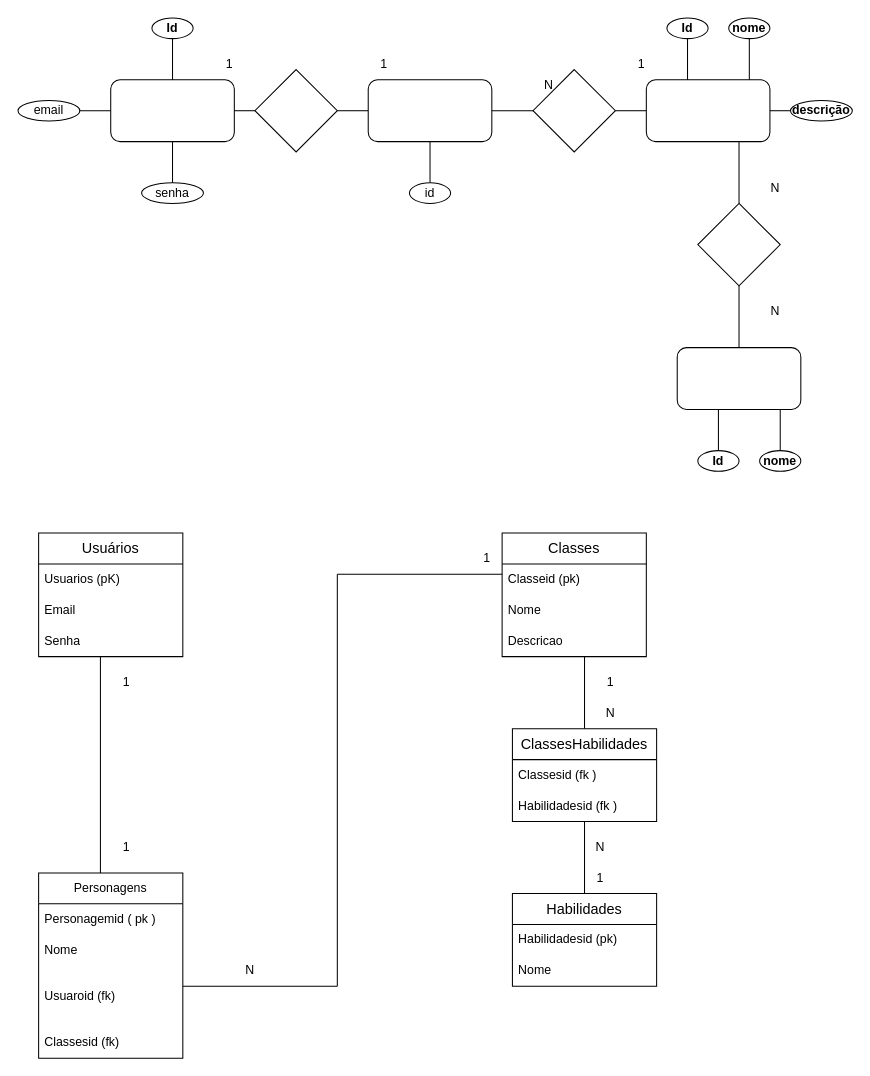
This 870x1076 diagram has some shape labels left out. The shapes that lost their labels are listed below. From the top down, each one's centre as x and y in pixels, then its label:
At (x=172, y=110): "USUÁRIO".
At (x=429, y=110): "PERSONAGEM".
At (x=707, y=110): "CLASSE".
At (x=738, y=378): "HABILIDADE".
